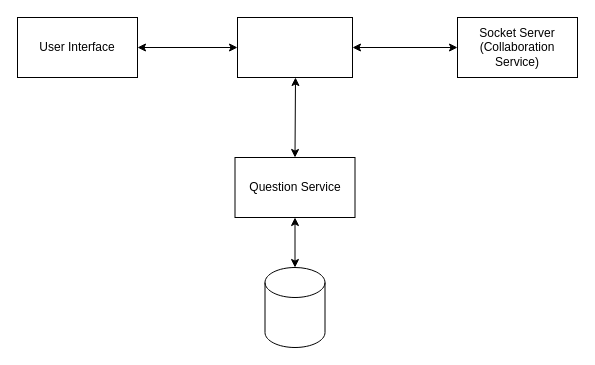
Image size: 595x365. Some labels were removed from this diagram. The shapes that lost their labels are listed below. From the top down, each one's centre as x and y in pixels, then its label:
At (x=294, y=47): "API gateway".
At (x=294, y=307): "Question DB".
